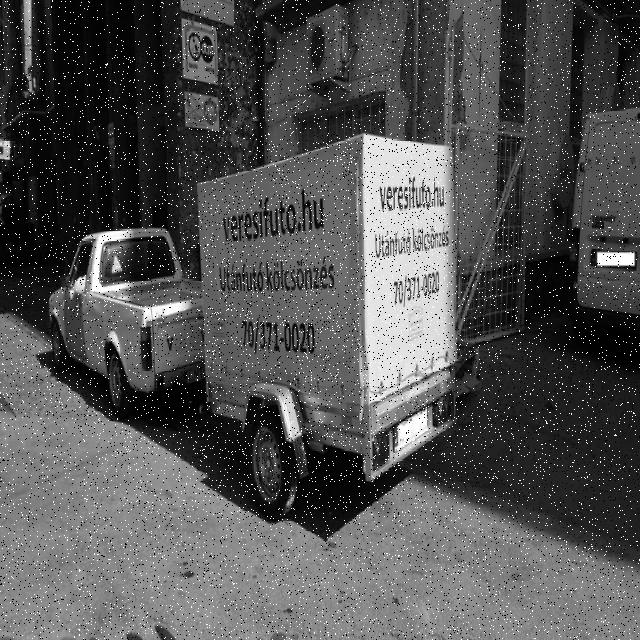Pickup: (49, 229, 206, 418)
Trailer: (195, 134, 459, 524)
